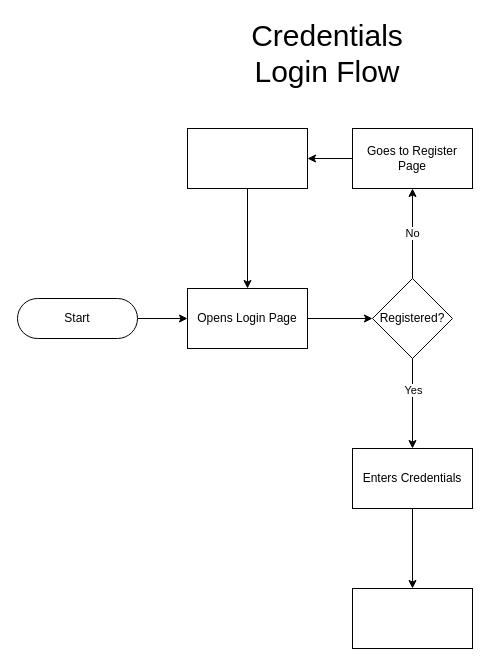
Some shapes in this 490 by 666 pixel diagram are drawn without their labels. Each missing label, with the centre of its shape:
Creates Account: (247,158)
Logged in, Goes to "My events" page: (412,618)
